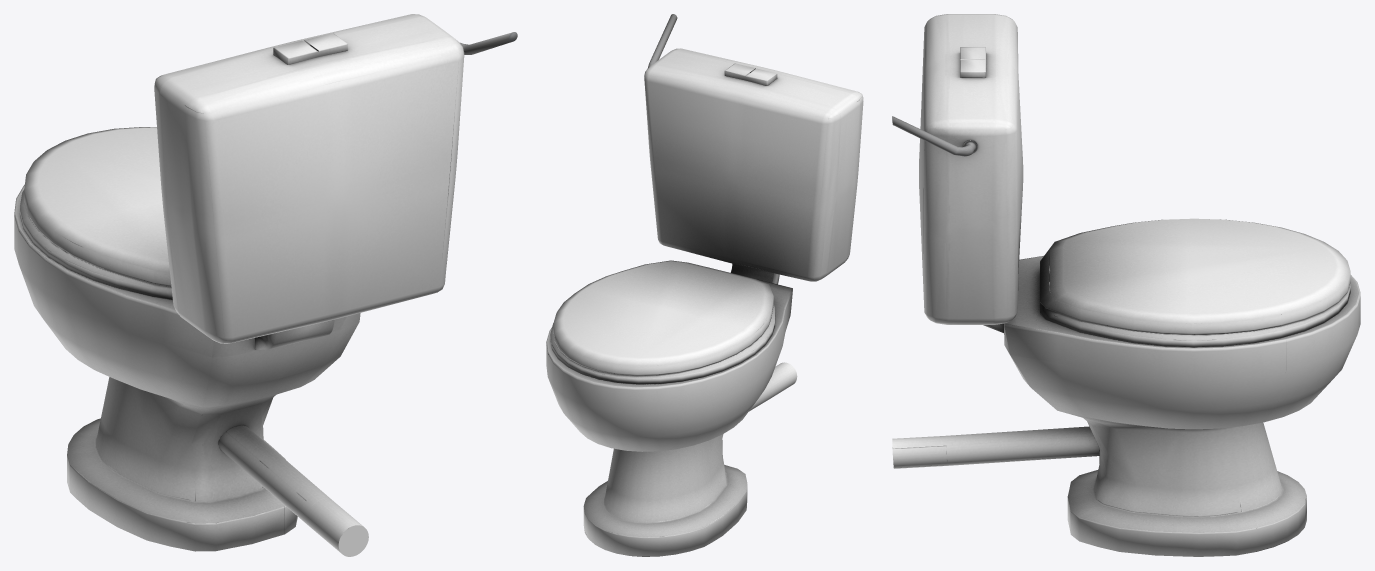
File: sralnia.fbx
3 views of the same model, side by side, from view 1: azimuth 30°, elevation 25°; view 2: azimuth 150°, elevation 25°; view 3: azimuth 270°, elevation 25° (orthographic). The views are drawn at different scales.
Parts seen in each view (by area): view 1: Kostka.001; view 2: Kostka.001; view 3: Kostka.001.
Boxes of the visible parts, box(x1,y1,x2,y2) form: Kostka.001: box(14, 14, 517, 556); Kostka.001: box(546, 14, 863, 556); Kostka.001: box(892, 14, 1360, 556).
Bounding box in the file's own units: 176 × 307 × 277.
